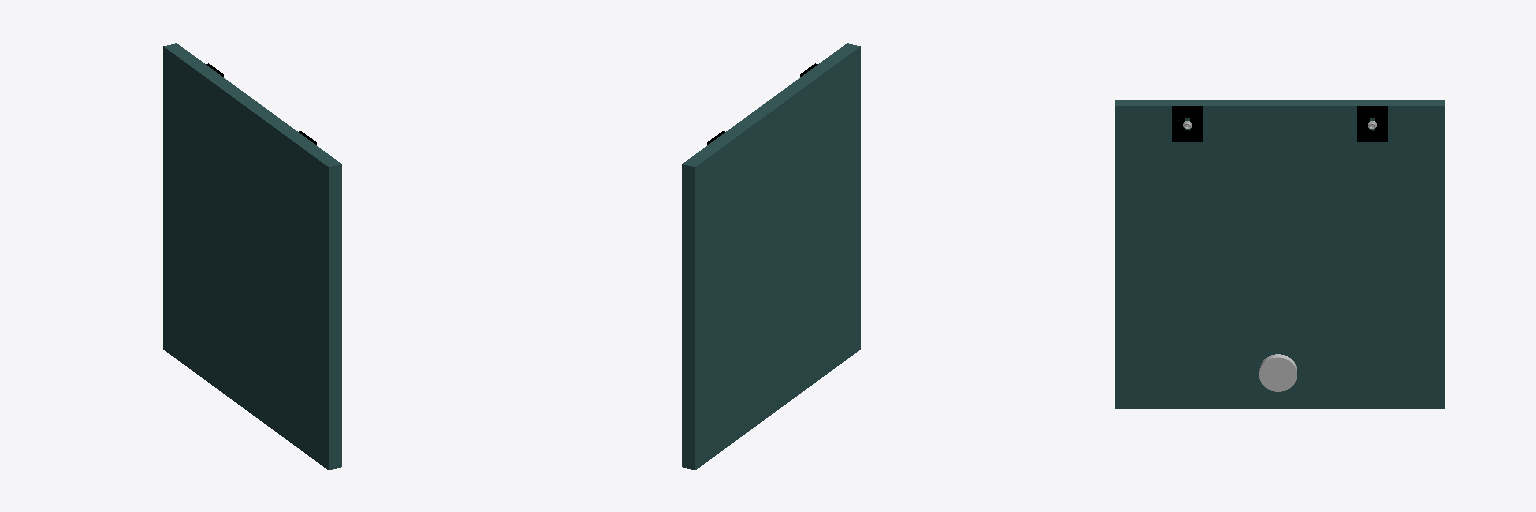
File: door.obj
3 views of the same model, side by side, from view 1: azimuth 30°, elevation 25°; view 2: azimuth 150°, elevation 25°; view 3: azimuth 270°, elevation 25° (orthographic).
Parts seen in each view (by area): view 1: Cube; view 2: Cube; view 3: Cube, handle_socket, hinge_top_door, hinge_bottom_door.
Boxes of the visible parts, x1,y1,x2,y2 form: Cube: [163, 43, 341, 469]; Cube: [682, 43, 860, 469]; Cube: [1115, 100, 1444, 408]; handle_socket: [1259, 354, 1296, 391]; hinge_top_door: [1172, 106, 1202, 141]; hinge_bottom_door: [1357, 106, 1387, 141].
Bounding box in the file's own units: 0.03 × 0.435 × 0.43.